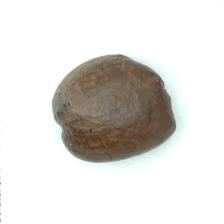NG: (125, 50, 178, 133)
